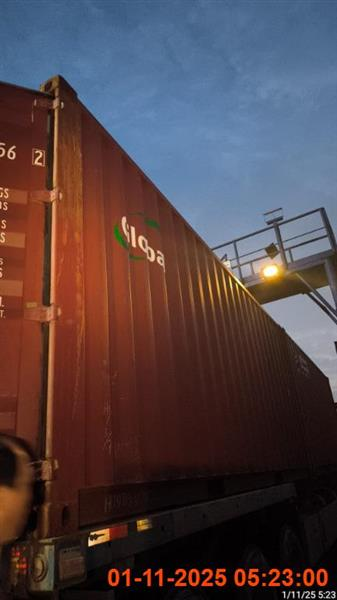broken: (0, 74, 335, 598), (0, 431, 38, 598)
